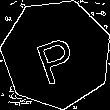P_N: (30, 24, 83, 84)
